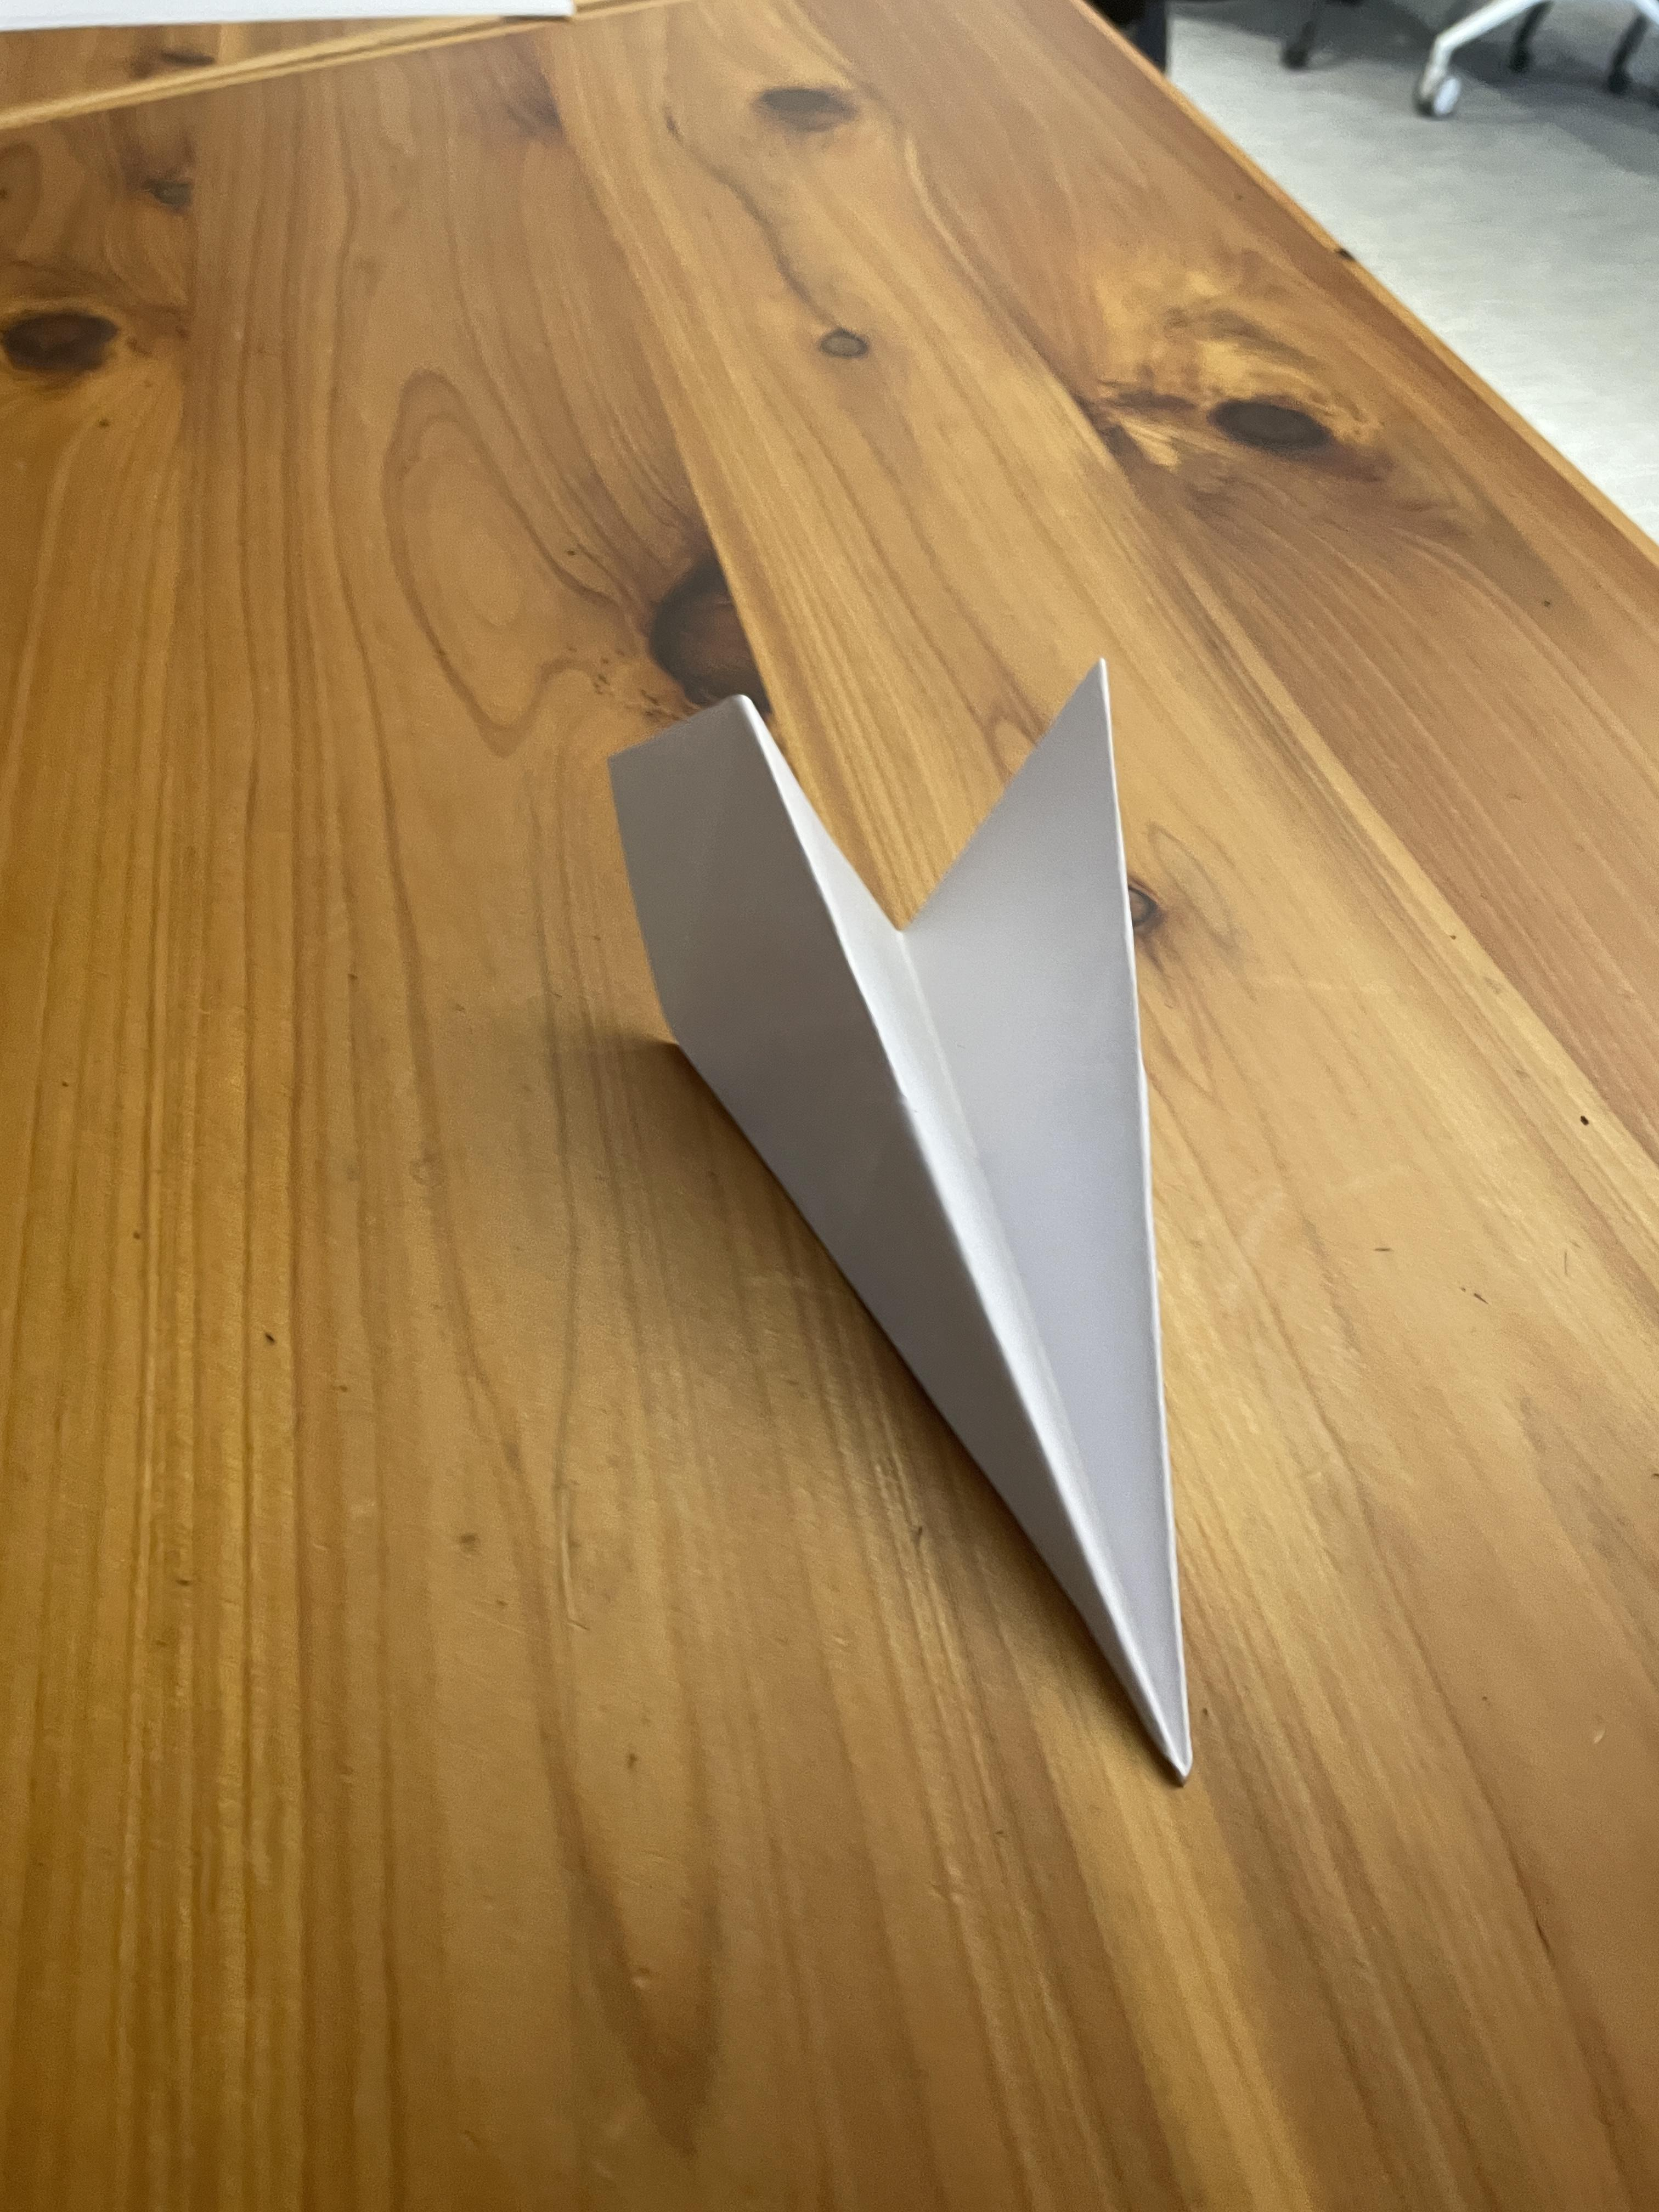shape_3: (455, 446, 1530, 2092)
